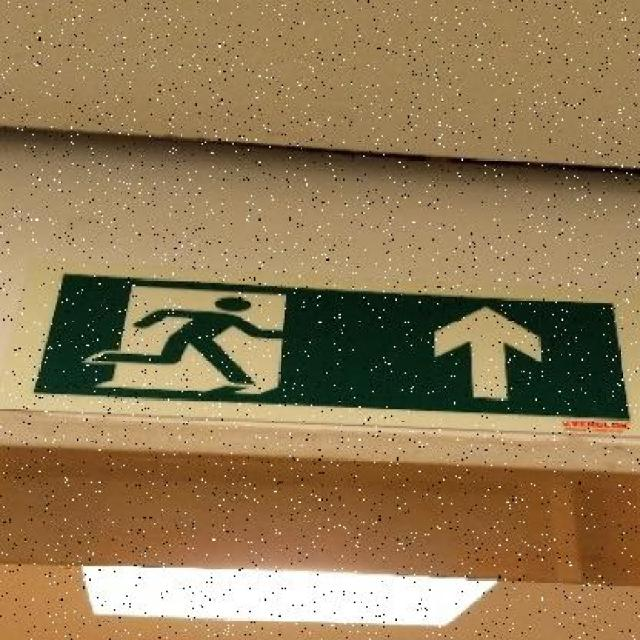exit_sign: (16, 248, 638, 418)
